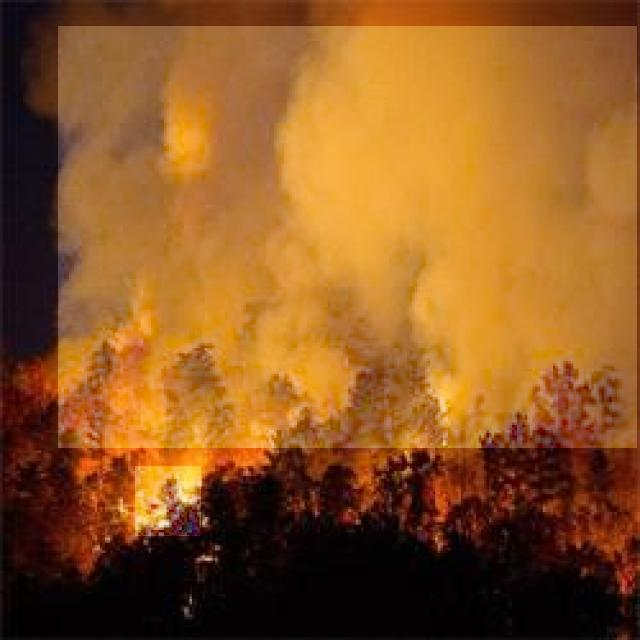Fire: (135, 466, 201, 536)
Smoke: (58, 26, 637, 448)
